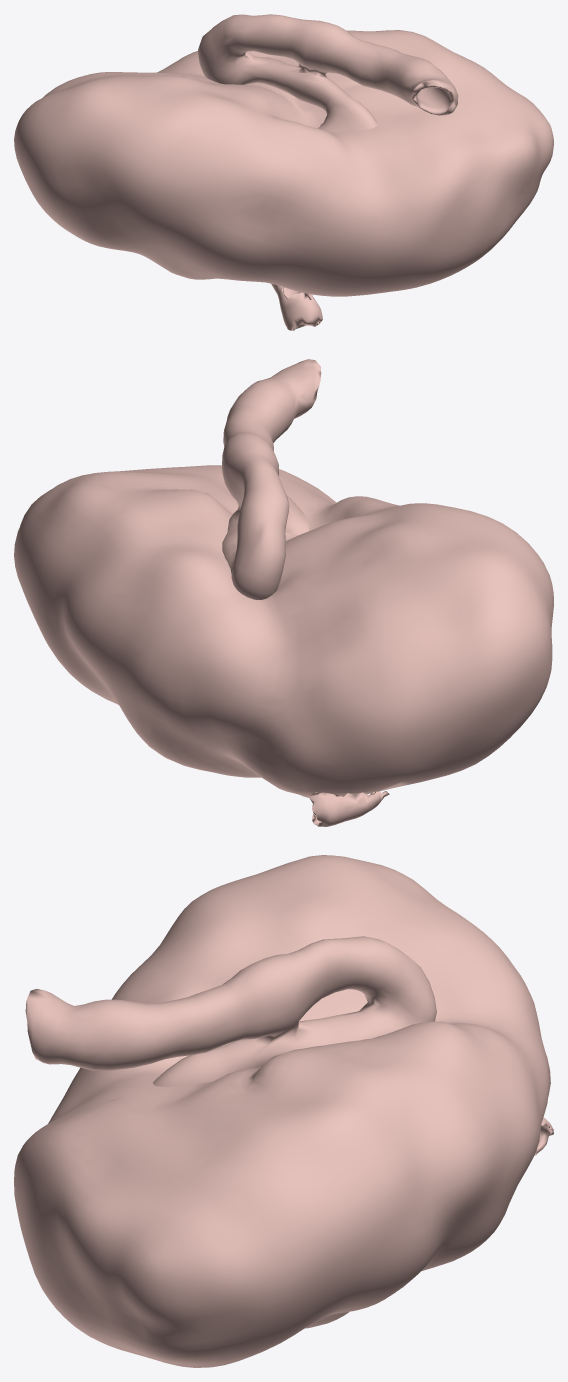
Rendered from nih_m_lymph_node-80.glb.
The picture shows the model from 3 angles, top to bottom: view 1: azimuth 30°, elevation 25°; view 2: azimuth 150°, elevation 25°; view 3: azimuth 270°, elevation 25°; orthographic projection. The views are drawn at different scales.
Parts seen in each view (by area): view 1: Yao_capsule_of_lymph_node, Yao_efferent_lymph_node, Yao_afferent_lymphatic_vessel; view 2: Yao_capsule_of_lymph_node, Yao_efferent_lymph_node, Yao_afferent_lymphatic_vessel; view 3: Yao_capsule_of_lymph_node, Yao_efferent_lymph_node.
Boxes of the visible parts, bbox=[...] form: Yao_capsule_of_lymph_node: bbox=[14, 30, 553, 296]; Yao_efferent_lymph_node: bbox=[198, 14, 458, 132]; Yao_afferent_lymphatic_vessel: bbox=[271, 284, 322, 330]; Yao_capsule_of_lymph_node: bbox=[14, 465, 553, 797]; Yao_efferent_lymph_node: bbox=[222, 359, 321, 599]; Yao_afferent_lymphatic_vessel: bbox=[309, 791, 389, 826]; Yao_capsule_of_lymph_node: bbox=[14, 855, 550, 1367]; Yao_efferent_lymph_node: bbox=[25, 936, 436, 1086].
Size of the model in its own units: 0.0183 by 0.0106 by 0.013.
